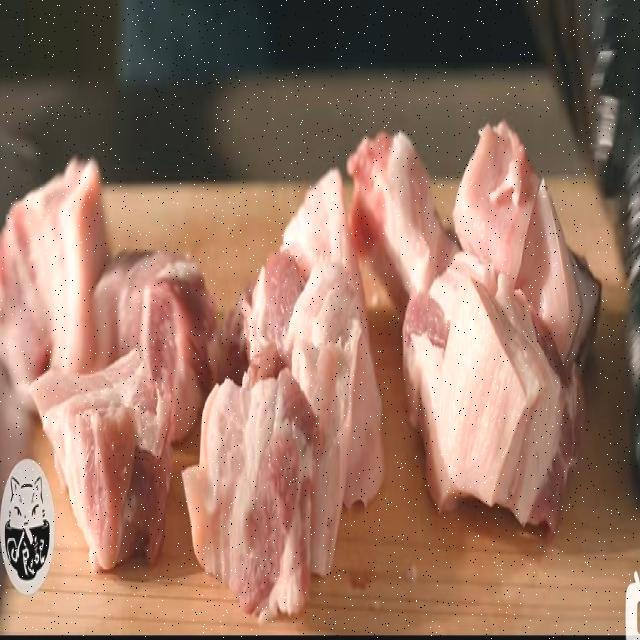meat: (232, 152, 384, 591), (416, 255, 580, 563), (454, 92, 598, 352), (182, 373, 317, 621), (30, 349, 177, 574), (332, 95, 460, 313), (0, 163, 108, 412), (93, 251, 218, 447)
